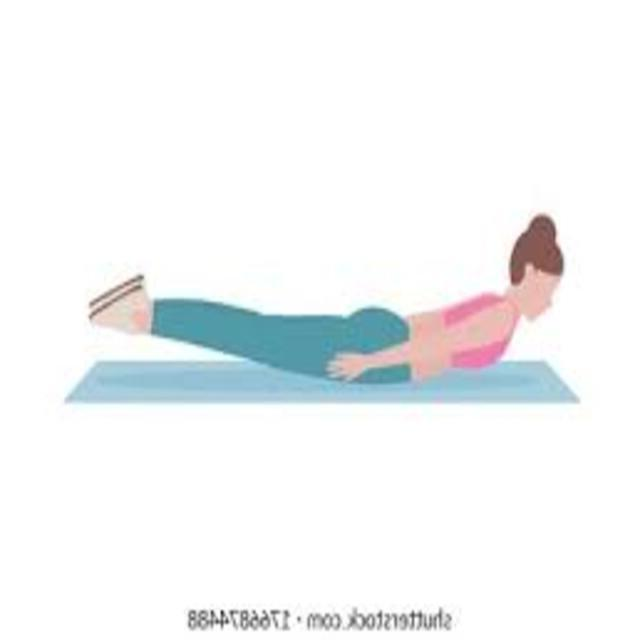Locust_Pose: (88, 214, 565, 386)
